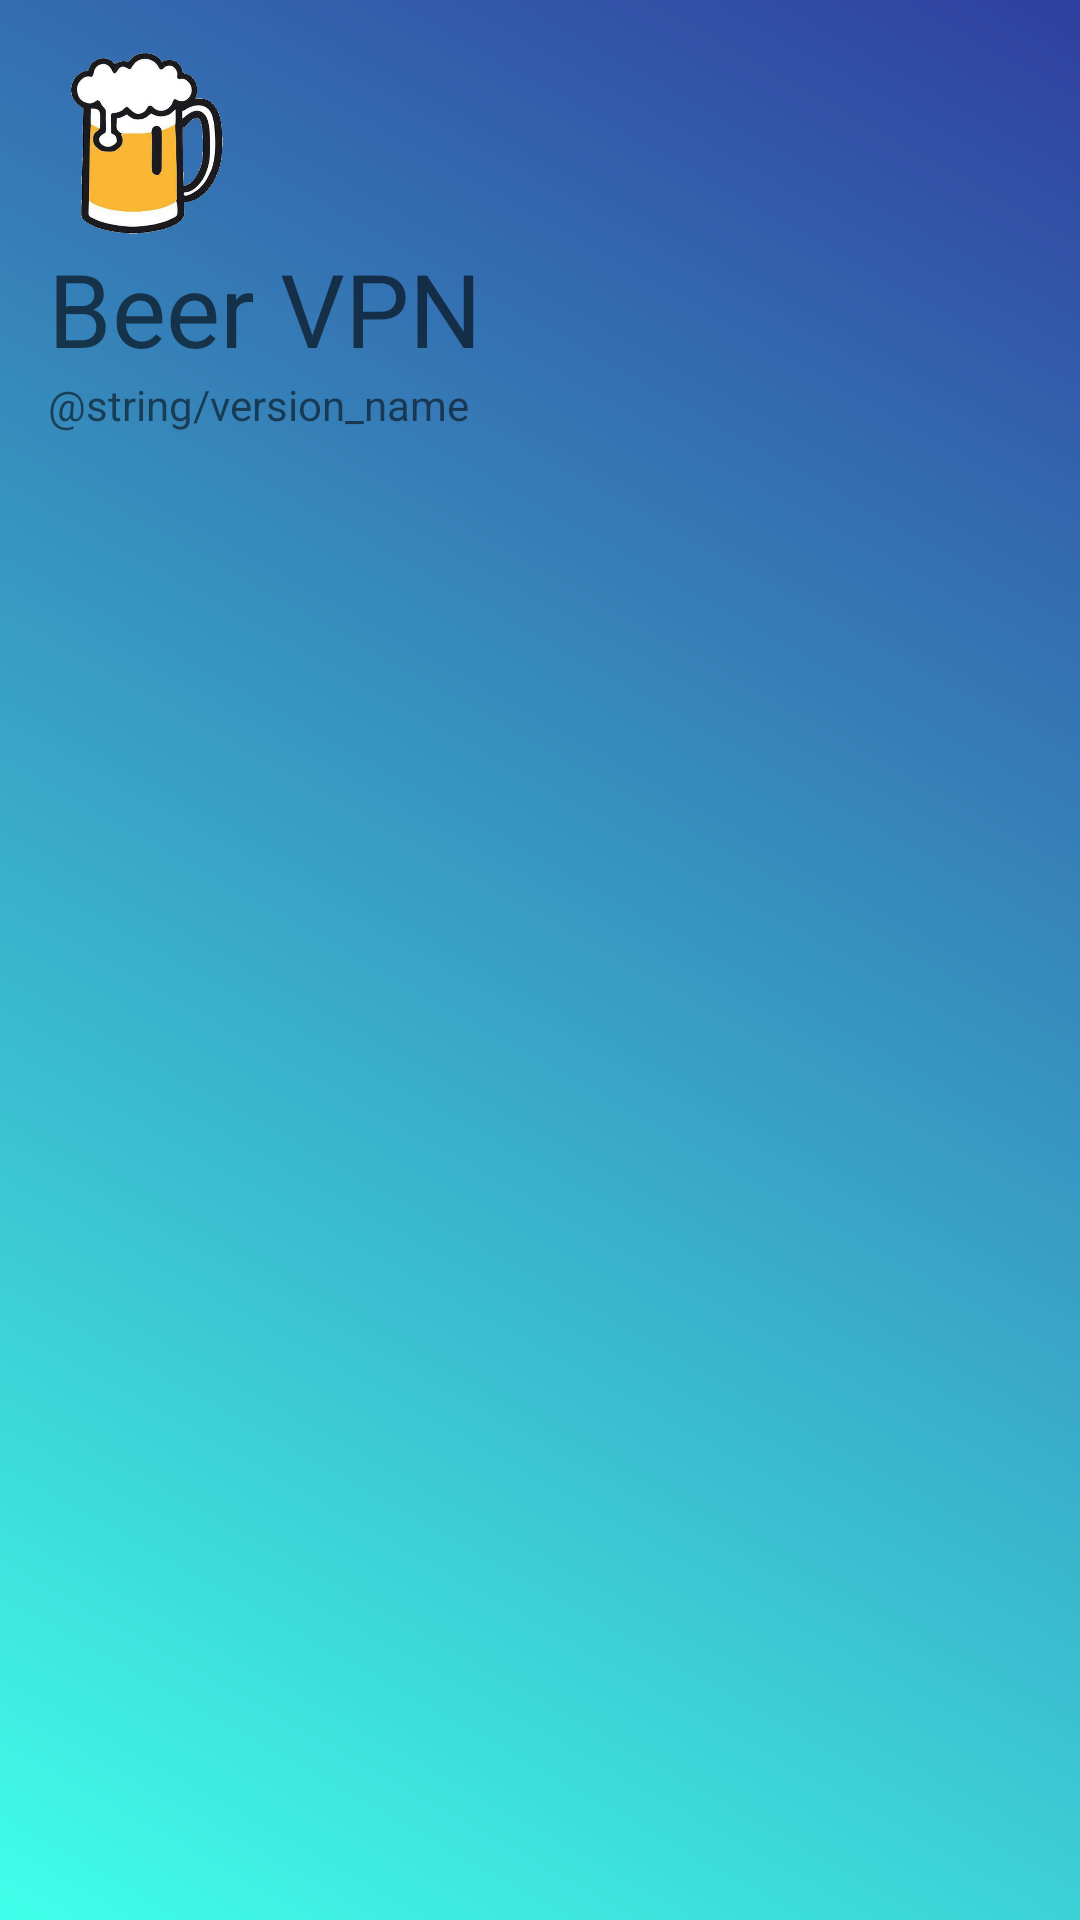

Point at icon controls on the screen. Image size 1080w x 1920h, points as (x,y).
beer pint: (147,143)
